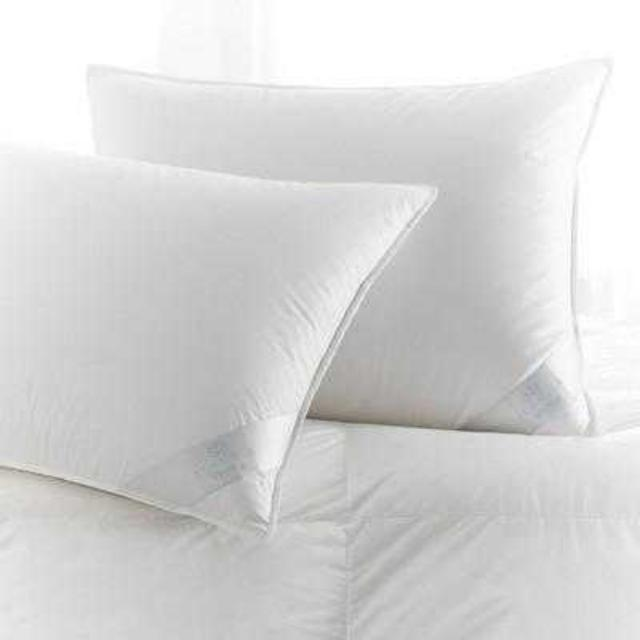pillow: (85, 55, 613, 435), (0, 138, 438, 540)
